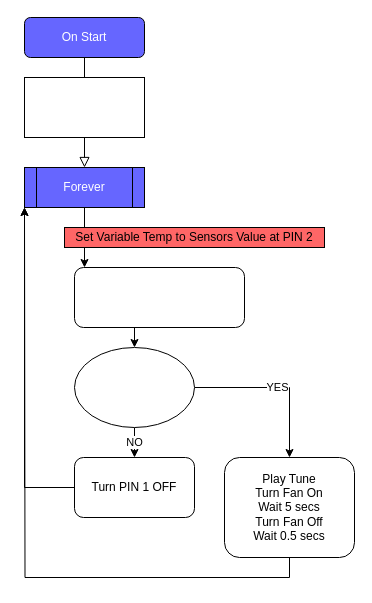
The diagram is 372 pixels wide and 603 high, and some of its shapes have lost their labels. The shapes that lost their labels are listed below. From the top down, each one's centre as x and y in pixels, then its label:
the point at 84,107: Initialize OLED Screen
the point at 159,297: Screen OUTPUT Clear OLED Show STRING: "Temperature:" Show NUMBER: Temp Value
the point at 134,387: Is Temp > 25C?
